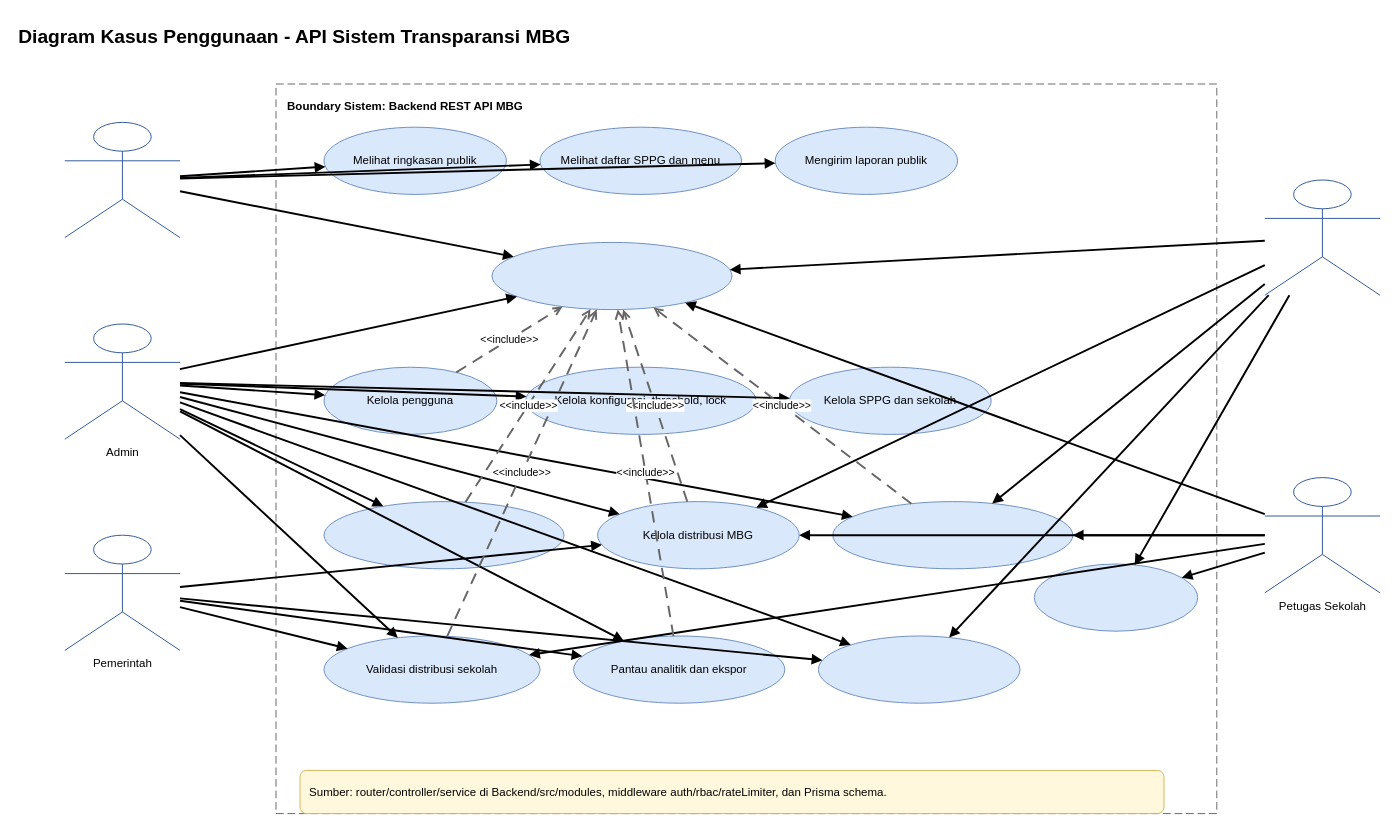
The diagram is 1397 pixels wide and 830 high, and some of its shapes have lost their labels. The box of each missing label's shape, as (x1, y1, x2, y2) in pixels:
Baca notifikasi real-time: (1033, 563, 1198, 631)
Import, link, dan promote Dapodik: (323, 501, 564, 569)
Laporkan dan tangani isu: (817, 635, 1020, 703)
Login, refresh token, logout, profil: (491, 241, 732, 310)
Pengunjung Publik: (64, 121, 180, 238)
Petugas SPPG: (1264, 179, 1380, 295)
Unggah dan lihat bukti distribusi: (832, 501, 1073, 569)
